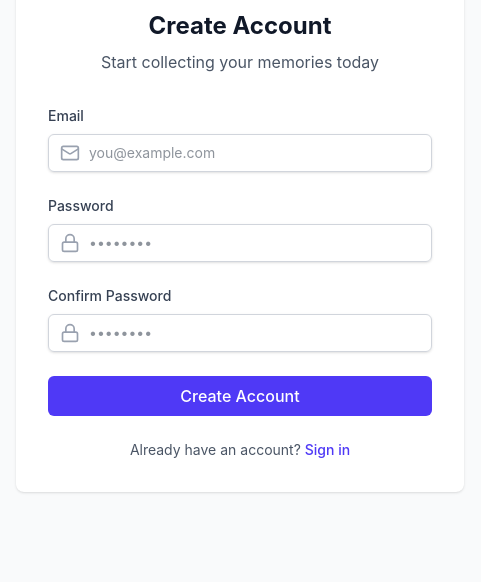
Test case: RegisterPage › shows error when sign up fails
In the field labelled "Email": (240, 153) [48, 134, 432, 172], type "test@test.com"
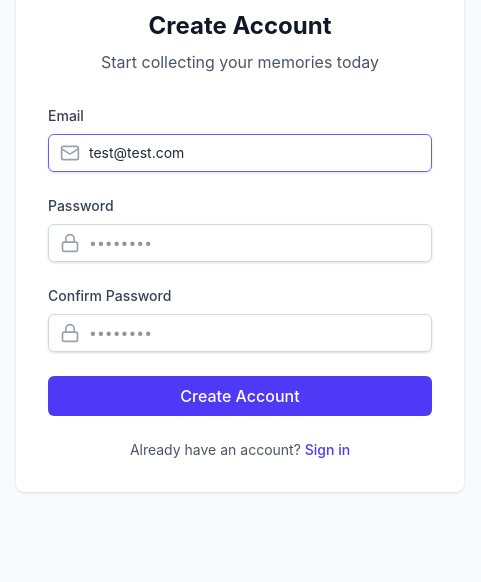
In the password field labelled "Password": (240, 243) [48, 224, 432, 262], type "password"
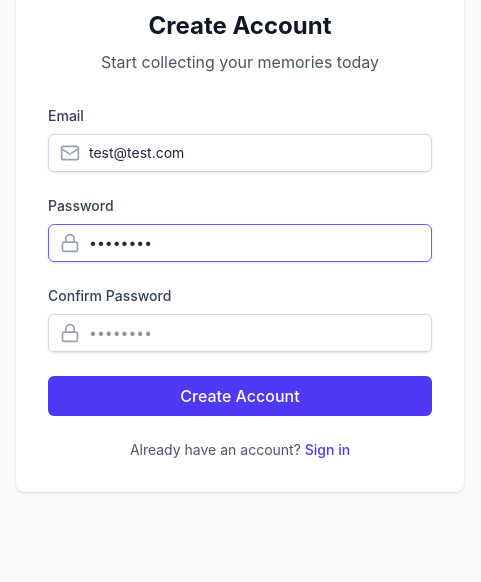
In the password field labelled "Confirm Password": (240, 333) [48, 314, 432, 352], type "password"
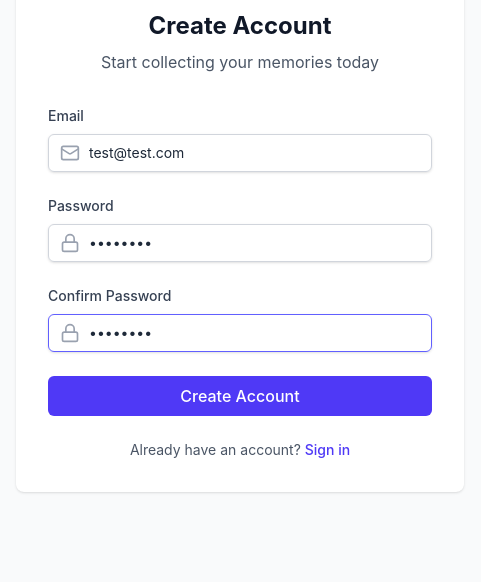
Click the button "Create Account": (240, 396) [48, 376, 432, 416]
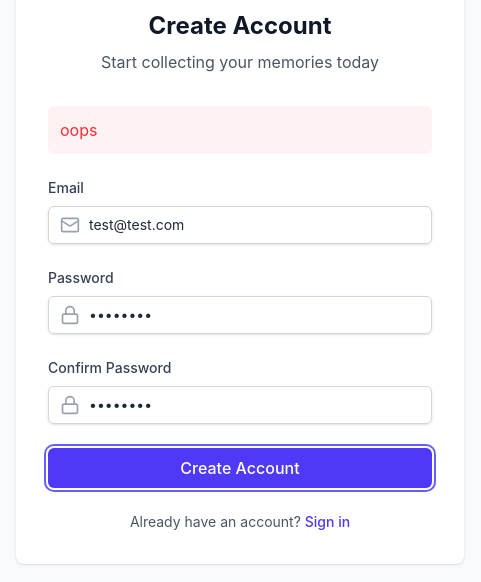
Check: the text "oops" is shown, box [48, 106, 432, 154]
